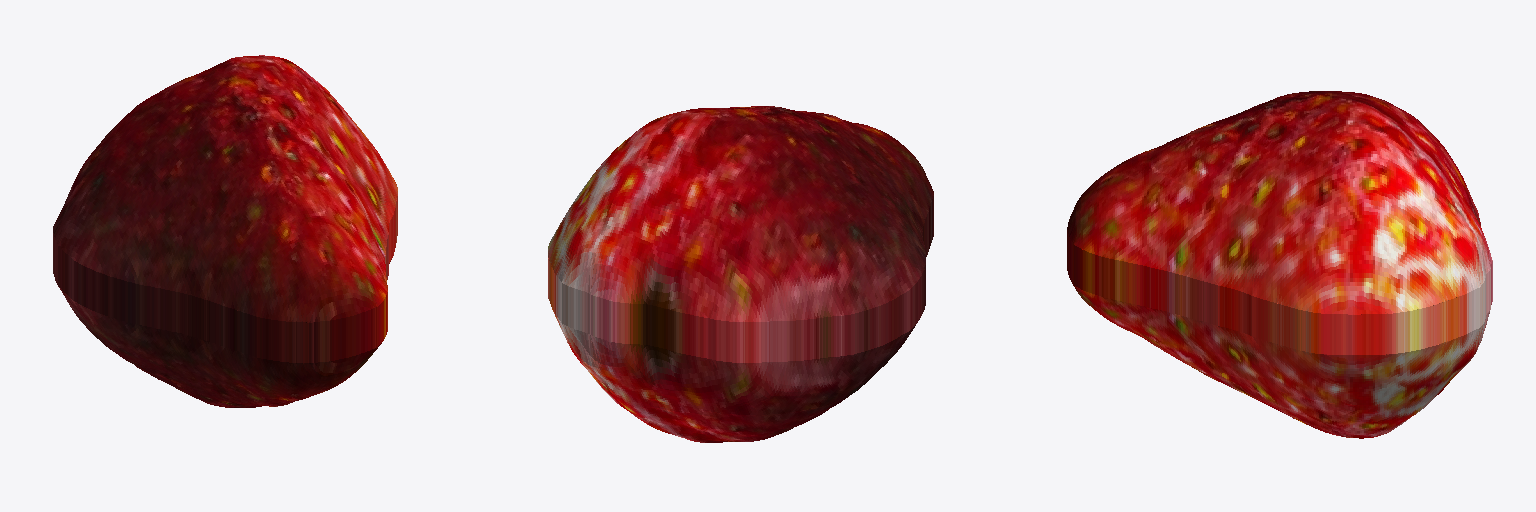
The picture shows the model from 3 angles: view 1: azimuth 30°, elevation 25°; view 2: azimuth 150°, elevation 25°; view 3: azimuth 270°, elevation 25°; orthographic projection.
Visible parts, largest first — view 1: Grid; view 2: Grid; view 3: Grid.
Boxes of the visible parts, box(x1,y1,x2,y2) form: Grid: box(53, 55, 397, 407); Grid: box(548, 106, 933, 442); Grid: box(1067, 91, 1492, 438).
Bounding box in the file's own units: 1.67 × 1.6 × 1.9.
1 materials, 1 textured.